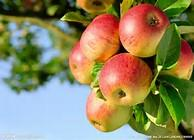apple: (70, 18, 123, 61), (120, 6, 167, 50)
